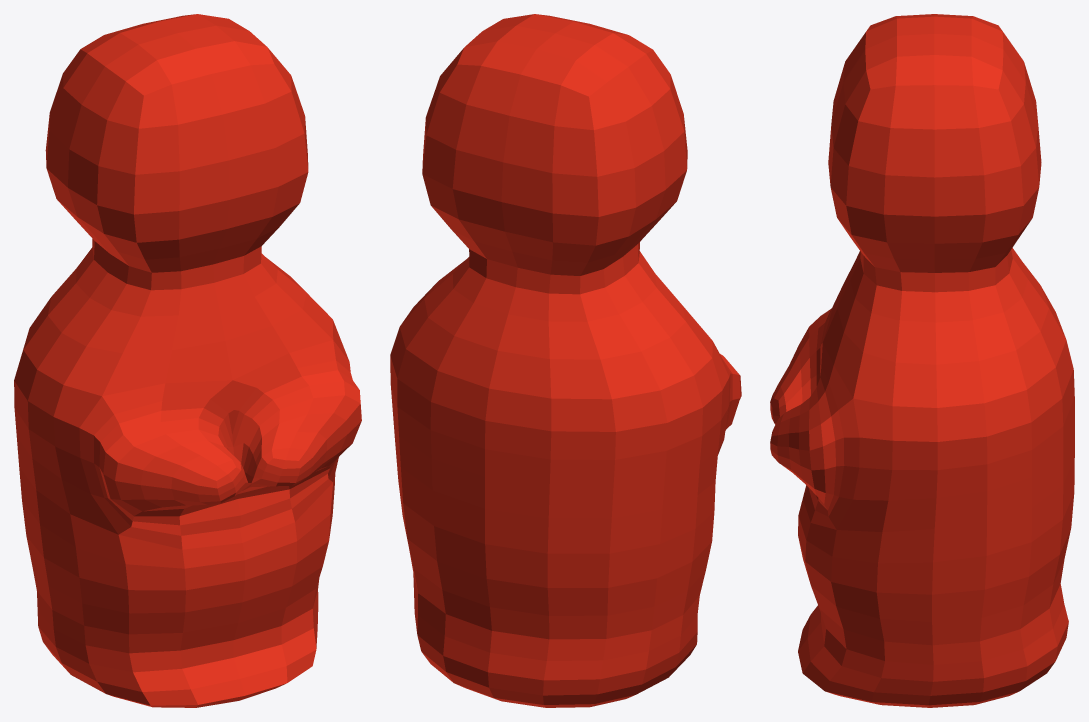
Rendered from Gummi Baby.fbx.
The picture shows the model from 3 angles, left to right: view 1: azimuth 30°, elevation 25°; view 2: azimuth 150°, elevation 25°; view 3: azimuth 270°, elevation 25°; orthographic projection.
Parts seen in each view (by area): view 1: Gummi Baby; view 2: Gummi Baby; view 3: Gummi Baby.
Part boxes in pixels (x1,y1,x2,y2): Gummi Baby: (14, 14, 361, 707); Gummi Baby: (390, 14, 741, 707); Gummi Baby: (770, 14, 1074, 707).
Size of the model in its own units: 21.95 by 44.63 by 19.43.
